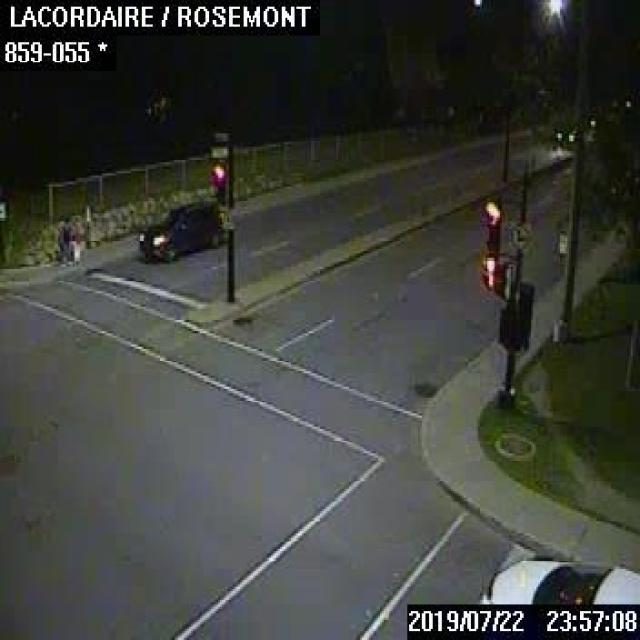pedestrian: (56, 214, 70, 264)
vehicle: (476, 557, 638, 602), (137, 200, 221, 262)
